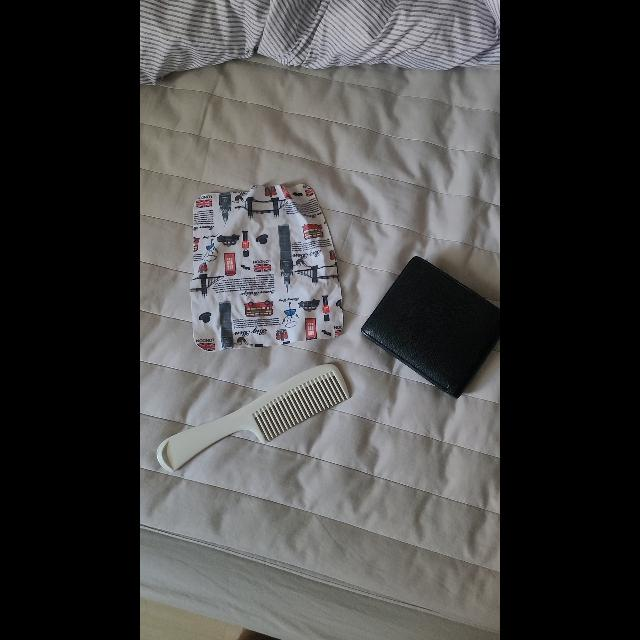COMB: (156, 363, 350, 472)
Glasses cleaning cloth: (189, 184, 343, 352)
WALLET: (360, 256, 500, 398)
